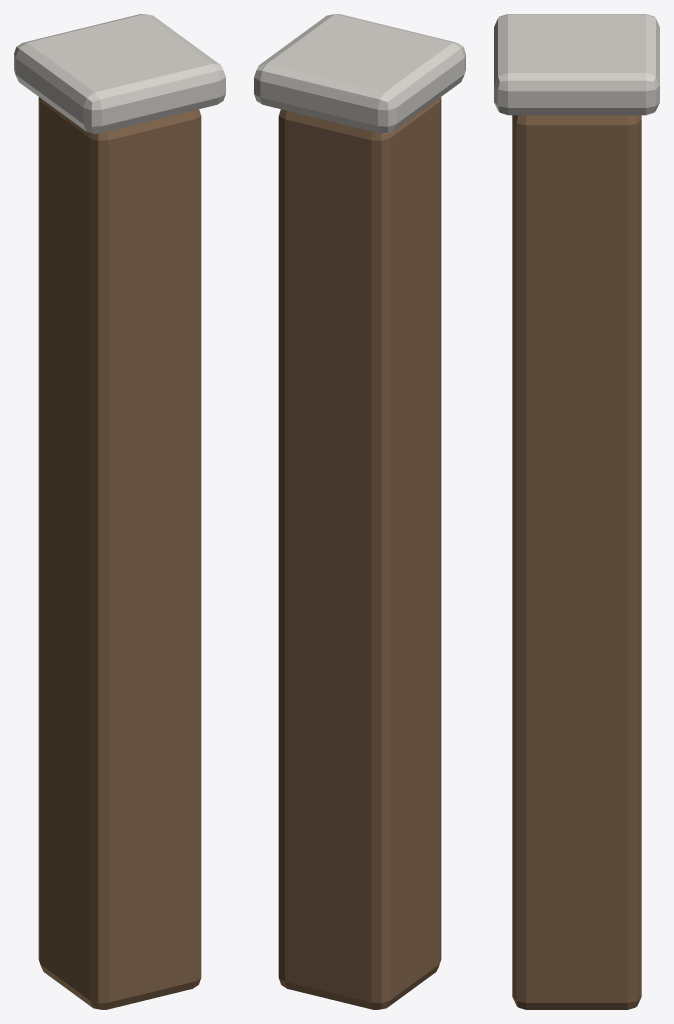
The model's file is SM_Kit_Fence_Picket_Post.glb.
3 views of the same model, side by side, from view 1: azimuth 30°, elevation 25°; view 2: azimuth 150°, elevation 25°; view 3: azimuth 270°, elevation 25° (orthographic).
Parts seen in each view (by area): view 1: SM_Kit_Fence_Picket_Post; view 2: SM_Kit_Fence_Picket_Post; view 3: SM_Kit_Fence_Picket_Post.
Boxes of the visible parts, x1,y1,x2,y2 form: SM_Kit_Fence_Picket_Post: (14,14,225,1009); SM_Kit_Fence_Picket_Post: (254,14,465,1009); SM_Kit_Fence_Picket_Post: (494,14,659,1009).
Size of the model in its own units: 0.18 by 1.13 by 0.18.
